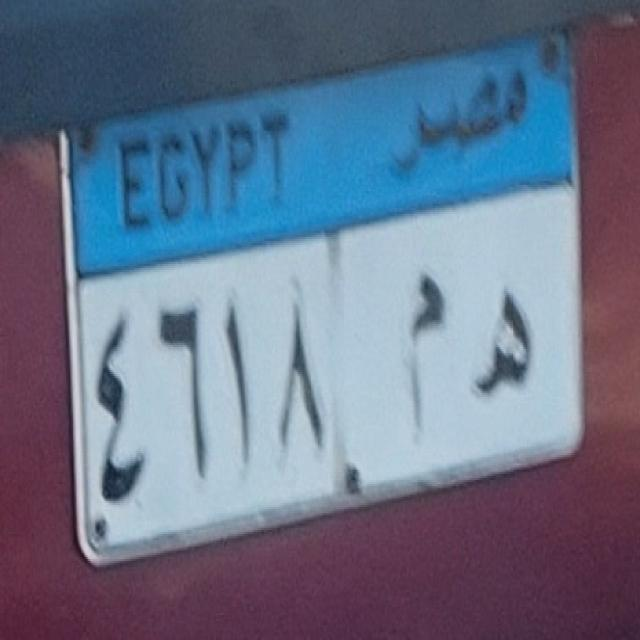1: (218, 292, 270, 478)
4: (87, 304, 161, 516)
6: (150, 296, 223, 482)
8: (270, 282, 336, 468)
Heeh: (468, 273, 548, 417)
Meem: (387, 261, 460, 441)
